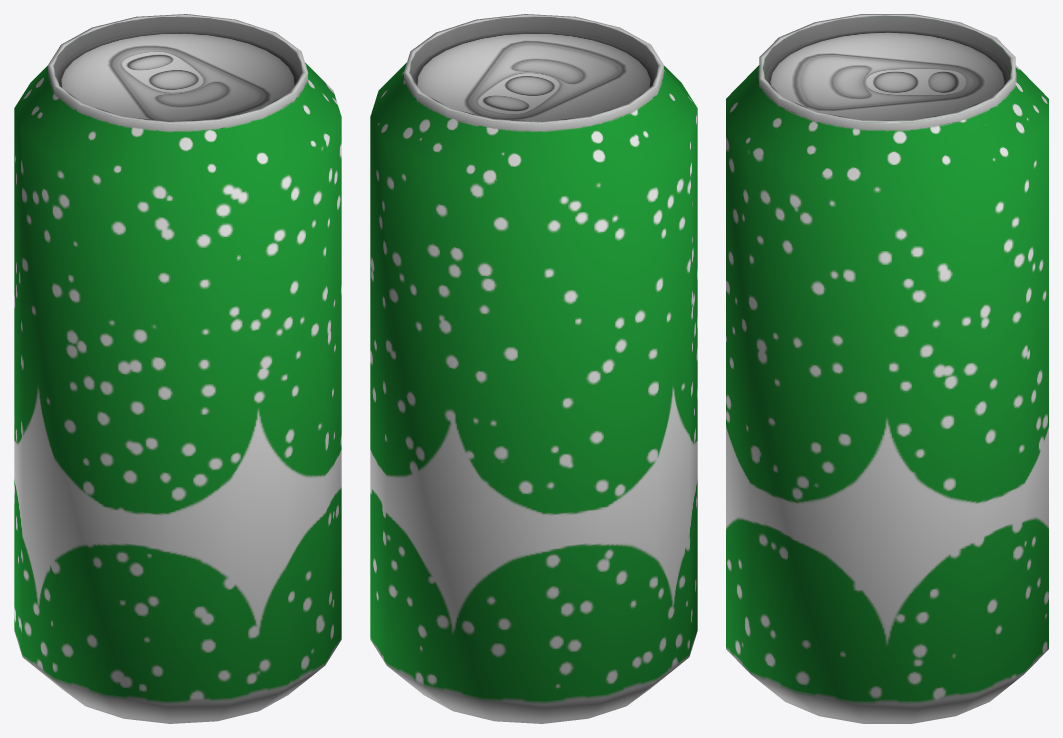
File: sodagreen.glb
3 views of the same model, side by side, from view 1: azimuth 30°, elevation 25°; view 2: azimuth 150°, elevation 25°; view 3: azimuth 270°, elevation 25° (orthographic).
Parts seen in each view (by area): view 1: sodagreen; view 2: sodagreen; view 3: sodagreen.
Boxes of the visible parts, x1,y1,x2,y2 form: sodagreen: (14, 14, 341, 723); sodagreen: (370, 14, 697, 723); sodagreen: (726, 14, 1048, 723).
Size of the model in its own units: 0.2196 by 0.4538 by 0.2196.
Materials: 1 (1 with a texture image).
